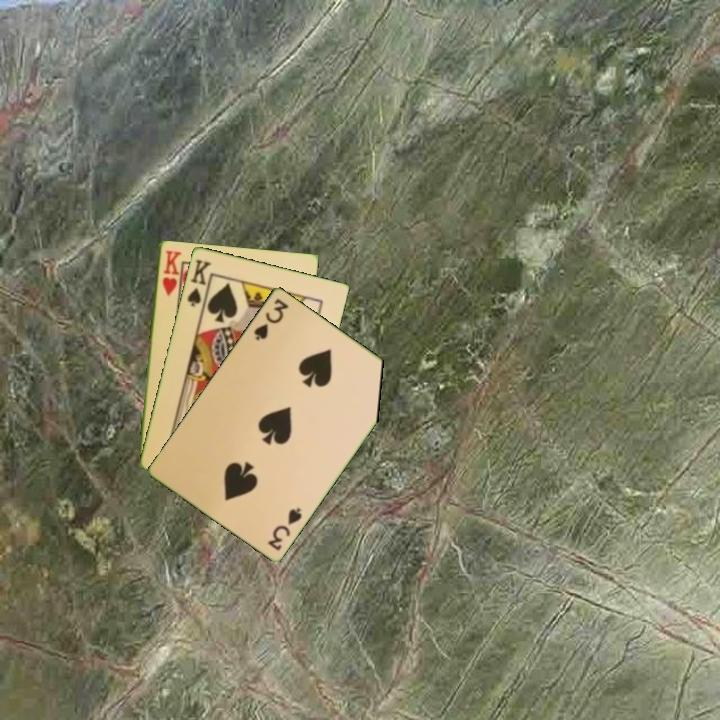3s: (250, 295, 292, 343), (264, 504, 305, 553)
Kh: (158, 246, 183, 298)
Ks: (183, 255, 214, 311)
